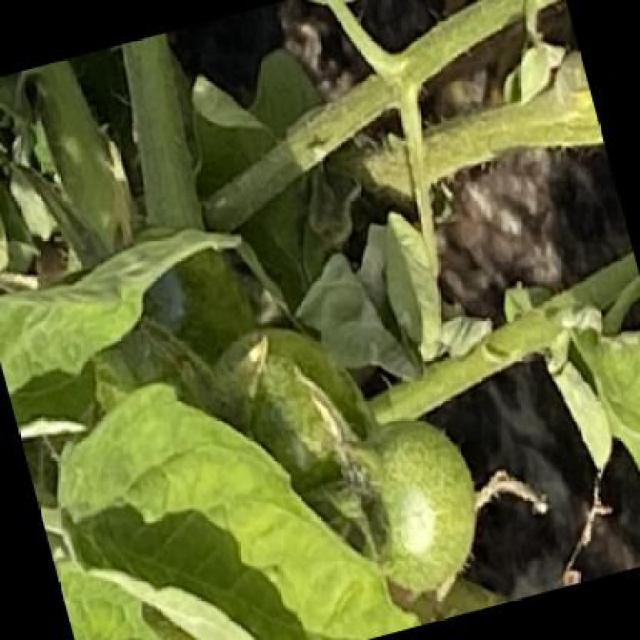unripe tomato: (194, 302, 386, 522), (326, 400, 494, 612)
